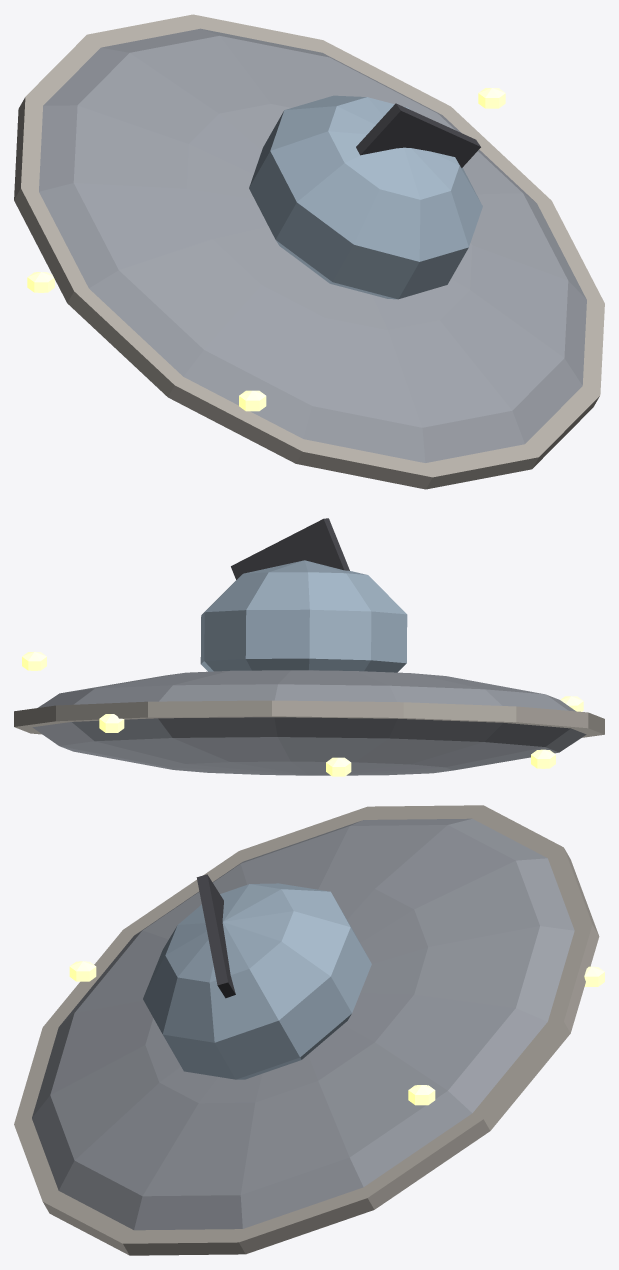
The model's file is crash_site.glb.
3 renders of one model, top to bottom at view 1: azimuth 30°, elevation 25°; view 2: azimuth 150°, elevation 25°; view 3: azimuth 270°, elevation 25°, orthographic. The views are drawn at different scales.
Parts seen in each view (by area): view 1: crash_site; view 2: crash_site; view 3: crash_site.
Part boxes in pixels (x1,y1,x2,y2): crash_site: [14, 14, 604, 489]; crash_site: [14, 518, 604, 776]; crash_site: [14, 805, 604, 1255].
Bounding box in the file's own units: 4.38 × 2.45 × 4.2.
